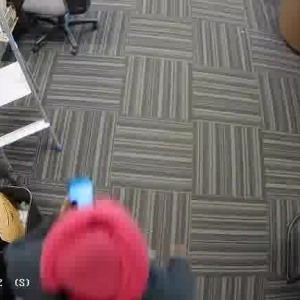person: (8, 187, 185, 300)
